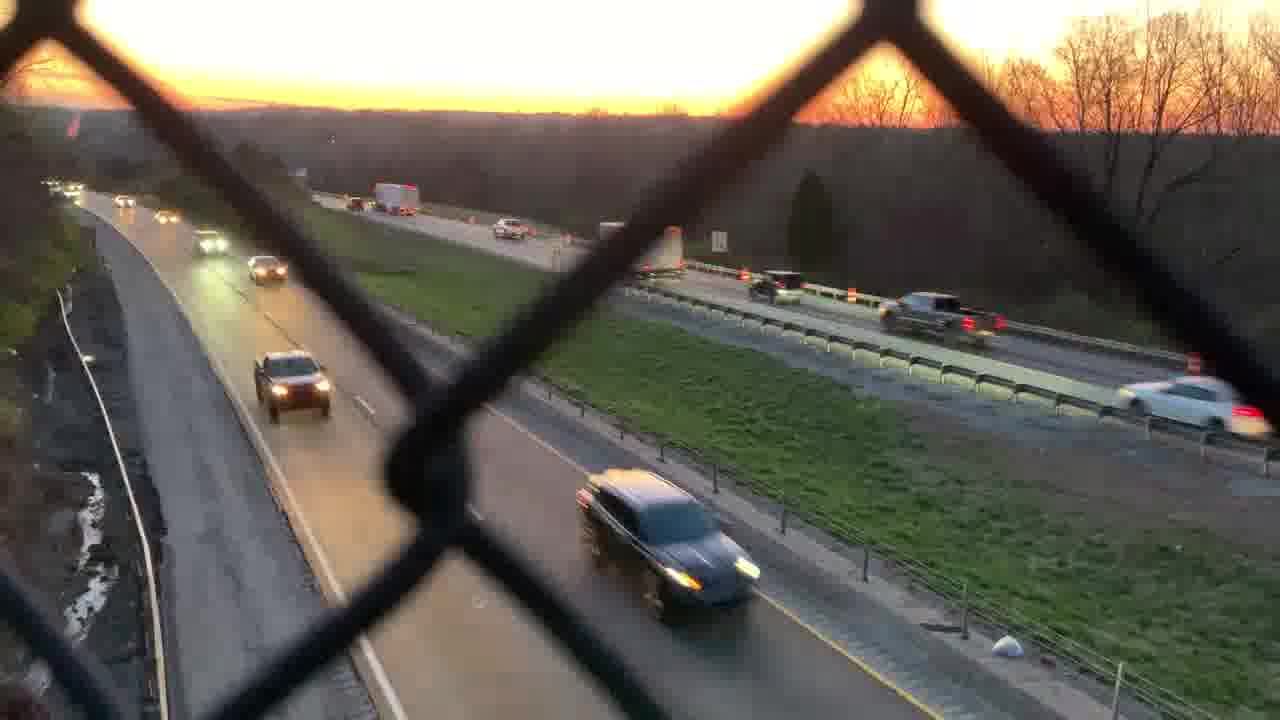largeCar: (571, 465, 764, 623), (746, 268, 802, 305)
lightTruck: (874, 290, 1004, 348), (246, 348, 337, 423)
